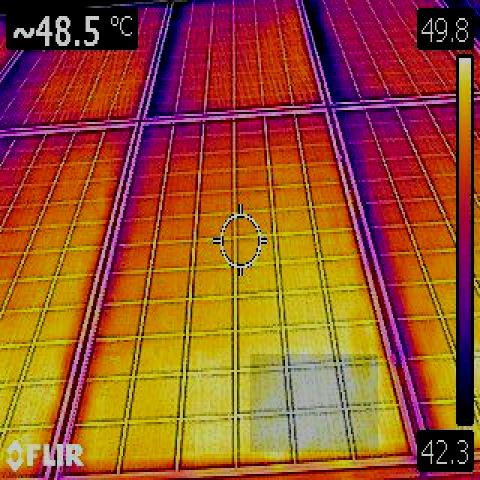fault: (250, 354, 378, 452)
